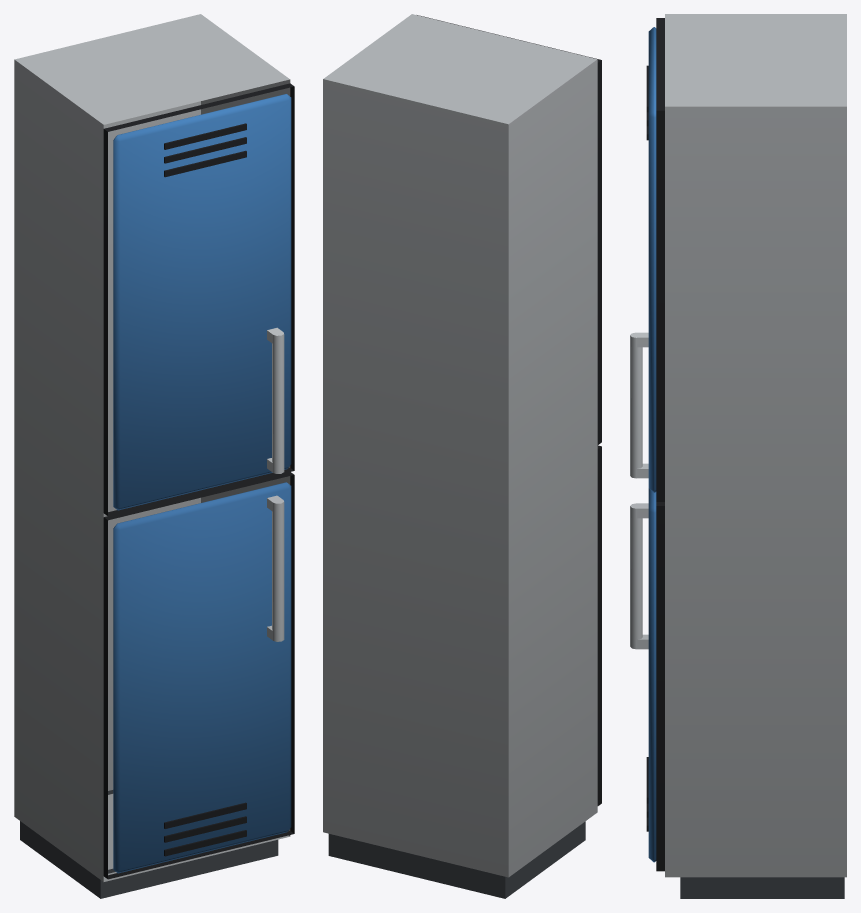
Rendered from GarageCab_Tall_05.glb.
3 renders of one model, left to right at view 1: azimuth 30°, elevation 25°; view 2: azimuth 150°, elevation 25°; view 3: azimuth 270°, elevation 25°, orthographic. The views are drawn at different scales.
Visible parts, largest first — view 1: SM_GarageCab_Tall_05; view 2: SM_GarageCab_Tall_05; view 3: SM_GarageCab_Tall_05.
Boxes of the visible parts, x1,y1,x2,y2 form: SM_GarageCab_Tall_05: [14, 14, 294, 898]; SM_GarageCab_Tall_05: [323, 14, 601, 898]; SM_GarageCab_Tall_05: [630, 14, 846, 898].
Bounding box in the file's own units: 0.5 × 2 × 0.4945.
Materials: 1 (1 with a texture image).
